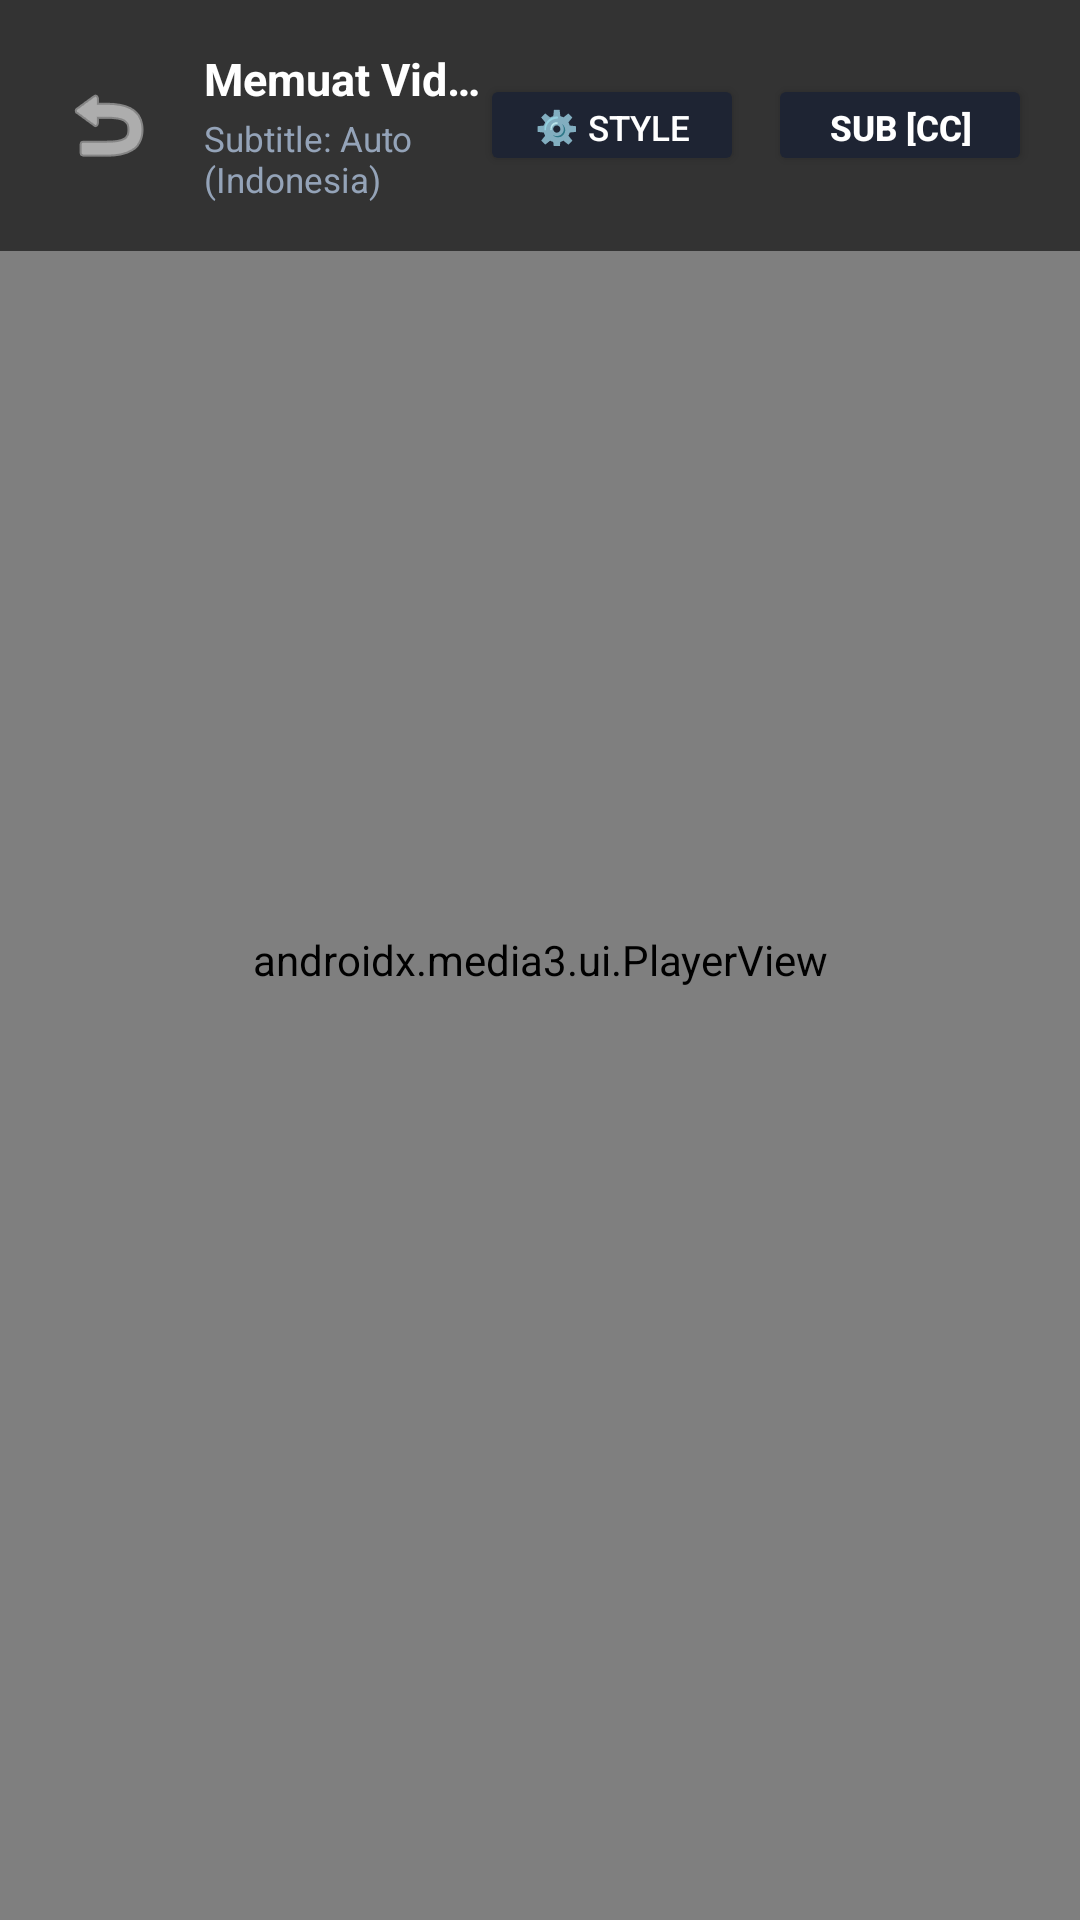

Icon bounding boxes for this 1080×1920 phone screenshot, format {"left": x1, "top": y1, "right": x2, "bottom": y2}:
Kembali: {"left": 75, "top": 94, "right": 144, "bottom": 157}
